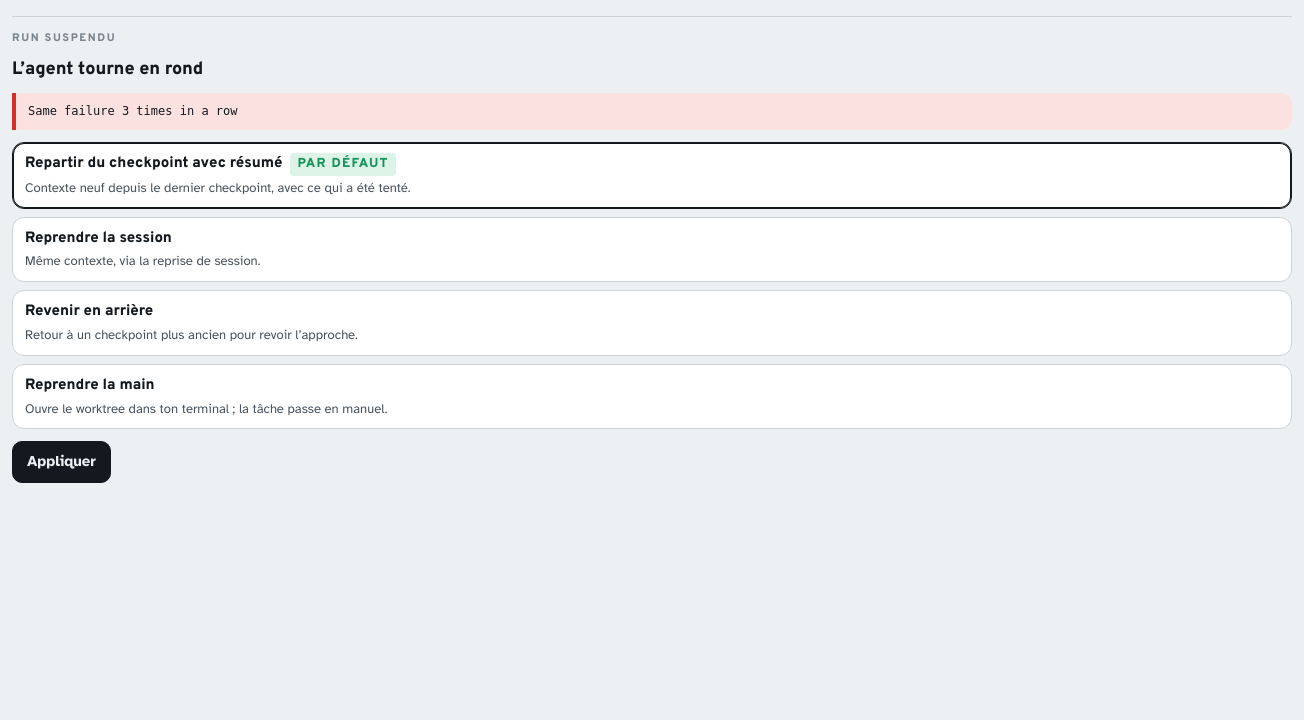
Test case: ActionPanel › shows the terminal command when taking over
This screenshot has width=1304, height=720.
Click the radio button labelled "Reprendre la main" at (90, 385), box [12,364,1292,429]
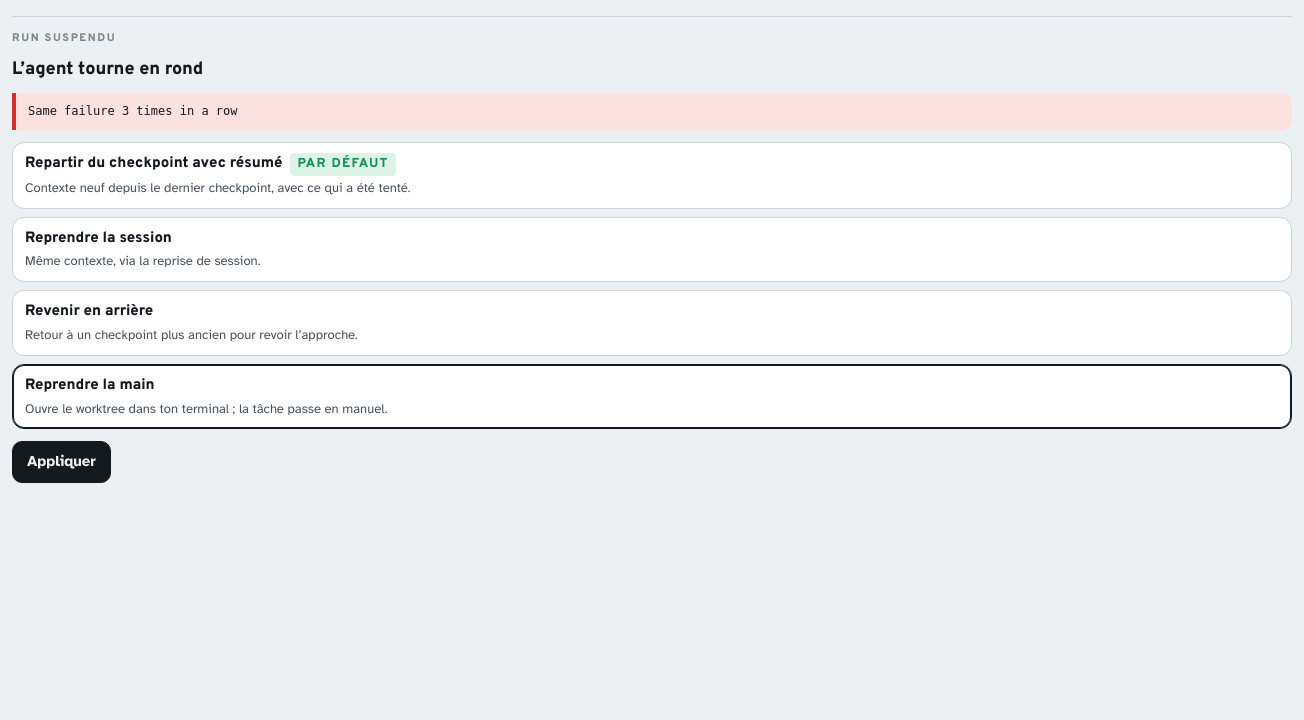
Click the button "Appliquer" at (61, 462), box [12,441,111,483]
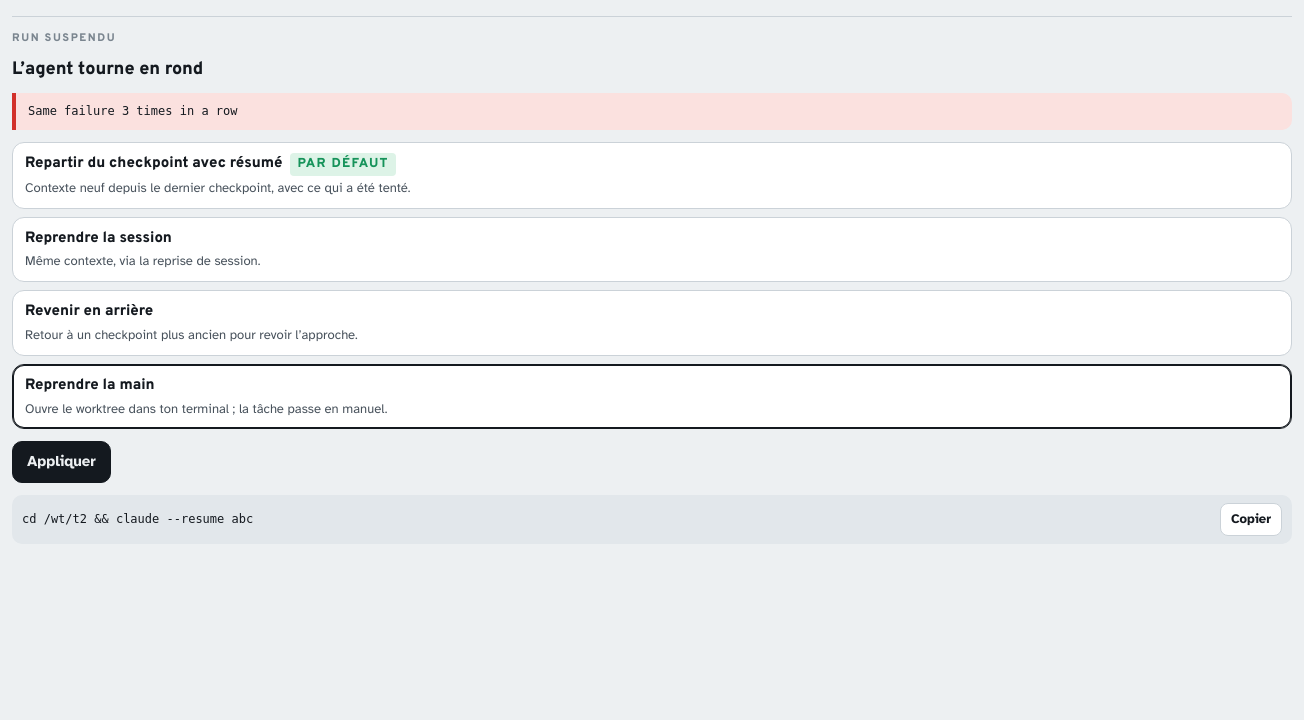
Now the text "cd /wt/t2 && claude --resume abc" is shown, box [22,512,253,526]
